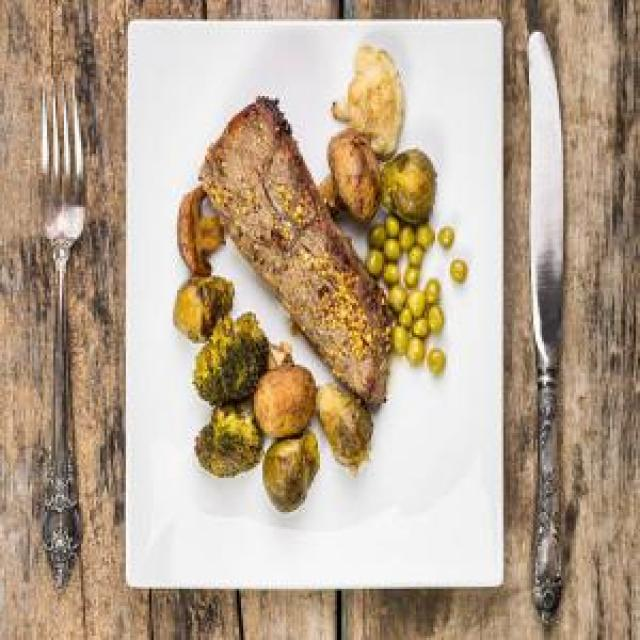knife: (521, 0, 576, 638)
